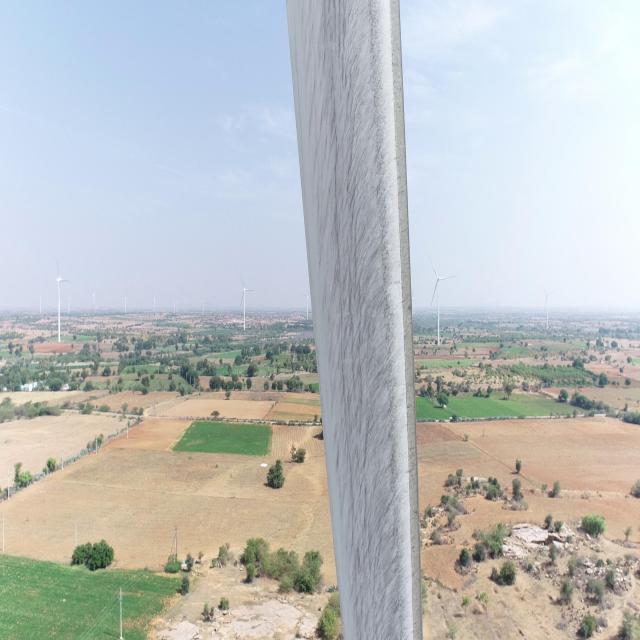Dirt: (289, 0, 424, 639)
